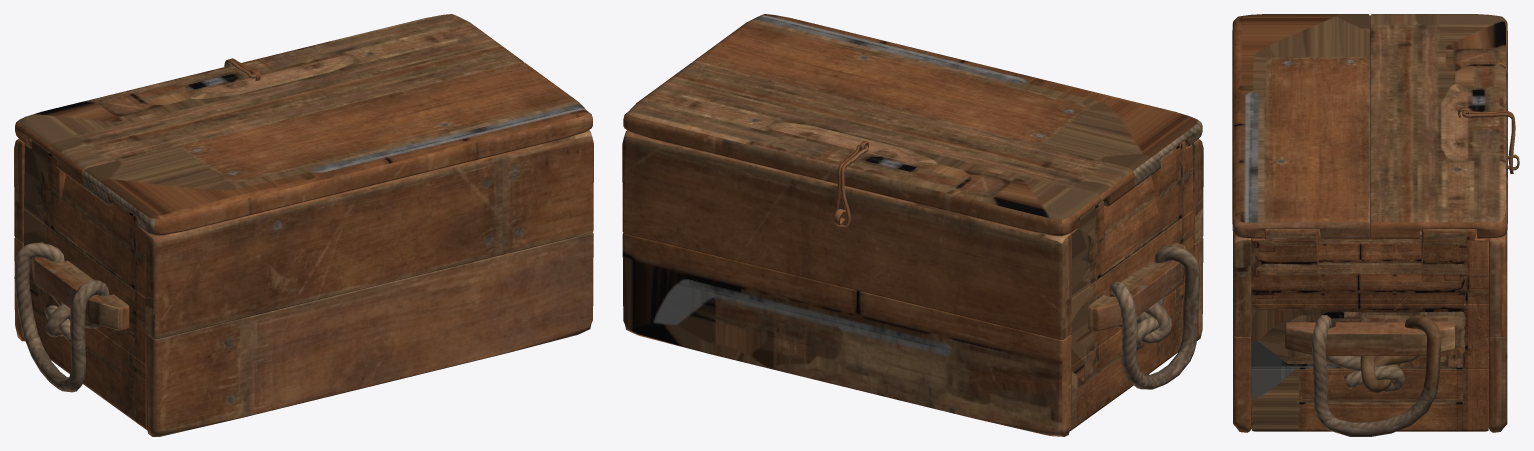
File: wooden_crate_01.obj
3 views of the same model, side by side, from view 1: azimuth 30°, elevation 25°; view 2: azimuth 150°, elevation 25°; view 3: azimuth 270°, elevation 25° (orthographic). The views are drawn at different scales.
Visible parts, largest first — view 1: wooden_crate_01_wooden_crate_01_0, wooden_crate_01_wooden_crate_01_lid_0; view 2: wooden_crate_01_wooden_crate_01_0, wooden_crate_01_wooden_crate_01_lid_0, wooden_crate_01_wooden_crate_01_latch_0; view 3: wooden_crate_01_wooden_crate_01_lid_0, wooden_crate_01_wooden_crate_01_0, wooden_crate_01_wooden_crate_01_latch_0.
Part boxes in pixels (x1,y1,x2,y2): wooden_crate_01_wooden_crate_01_0: (14, 130, 593, 436); wooden_crate_01_wooden_crate_01_lid_0: (15, 14, 592, 235); wooden_crate_01_wooden_crate_01_0: (622, 130, 1203, 436); wooden_crate_01_wooden_crate_01_lid_0: (623, 14, 1202, 236); wooden_crate_01_wooden_crate_01_latch_0: (833, 145, 868, 228); wooden_crate_01_wooden_crate_01_lid_0: (1232, 14, 1507, 238); wooden_crate_01_wooden_crate_01_0: (1233, 154, 1519, 436); wooden_crate_01_wooden_crate_01_latch_0: (1462, 111, 1515, 173).
Size of the model in its own units: 0.8253 by 0.3496 by 0.409.
Materials: 1 (1 with a texture image).
